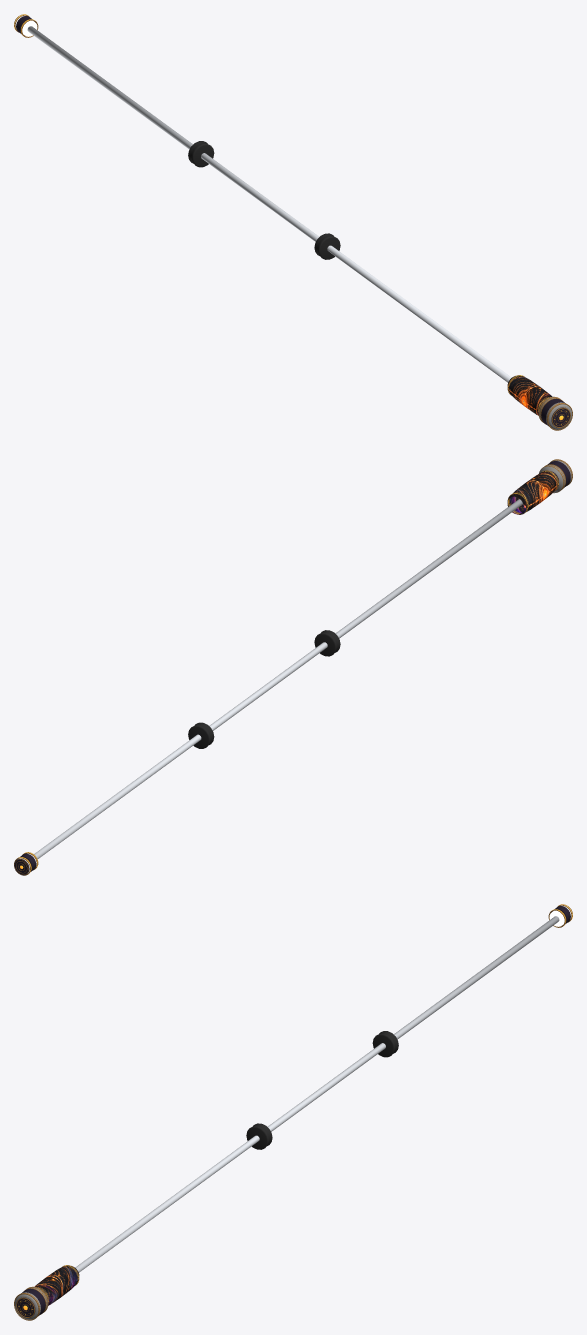
Rendered from fuzeball_rod_2man.glb.
The picture shows the model from 3 angles, top to bottom: view 1: azimuth 30°, elevation 25°; view 2: azimuth 150°, elevation 25°; view 3: azimuth 330°, elevation 25°; orthographic projection.
Visible parts, largest first — view 1: rod2_bar.002, rod2_handle_relic; view 2: rod2_bar.002, rod2_handle_relic; view 3: rod2_bar.002, rod2_handle_relic.
Part boxes in pixels (x1,y1,x2,y2): rod2_bar.002: [27, 26, 511, 382]; rod2_handle_relic: [507, 375, 552, 415]; rod2_bar.002: [34, 499, 522, 858]; rod2_handle_relic: [507, 471, 558, 514]; rod2_bar.002: [75, 916, 559, 1272]; rod2_handle_relic: [34, 1265, 79, 1305].
Size of the model in its own units: 3.49 by 3.49 by 128.
8 materials, 1 textured.
